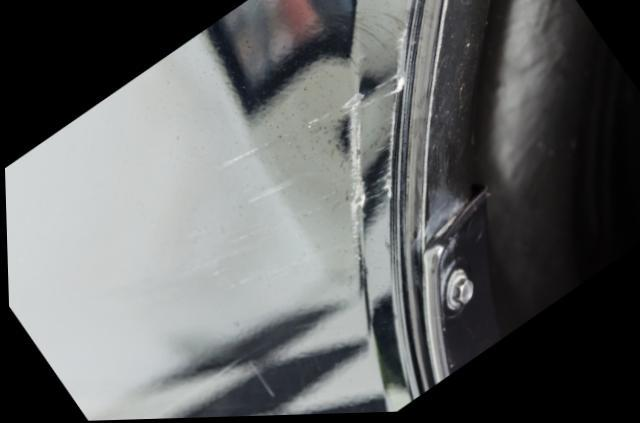scratch: (220, 70, 406, 247)
